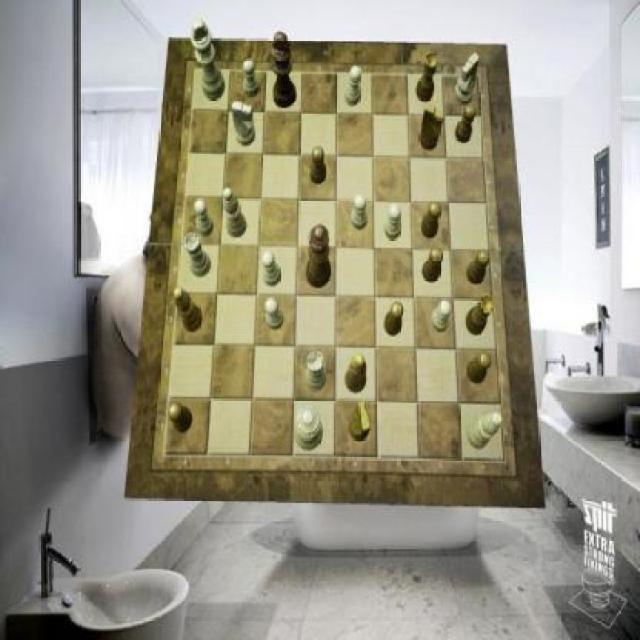bishop: (174, 288, 203, 333), (345, 354, 367, 394)
black-bishop: (271, 31, 297, 108)
black-king: (420, 103, 445, 151), (349, 402, 372, 442)
black-knight: (457, 104, 477, 144), (468, 352, 492, 385), (468, 249, 490, 284), (169, 402, 194, 432), (422, 202, 442, 239), (310, 146, 328, 184), (384, 302, 404, 336), (422, 248, 442, 282)
black-pawn: (306, 224, 331, 288)
black-queen: (466, 294, 496, 335), (417, 50, 440, 101)
black-rook: (468, 412, 503, 450), (223, 188, 247, 238)
white-bishop: (190, 18, 224, 101)
white-king: (454, 54, 478, 106), (232, 101, 256, 147)
white-knight: (194, 199, 214, 236), (431, 298, 452, 332), (384, 203, 402, 241), (346, 66, 363, 106), (264, 298, 284, 331), (262, 251, 280, 287), (350, 194, 368, 230), (243, 60, 259, 98)
white-pawn: (294, 404, 323, 450)
white-queen: (184, 234, 212, 278), (306, 351, 327, 389)
